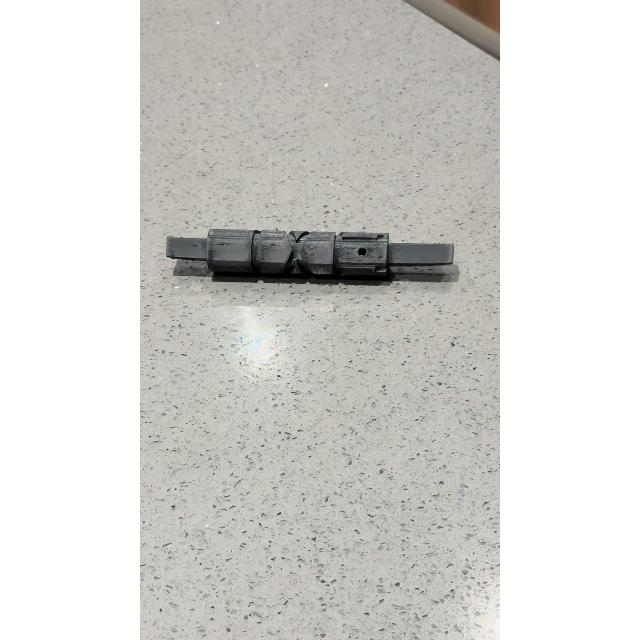Pieza_1: (167, 215, 457, 289)
